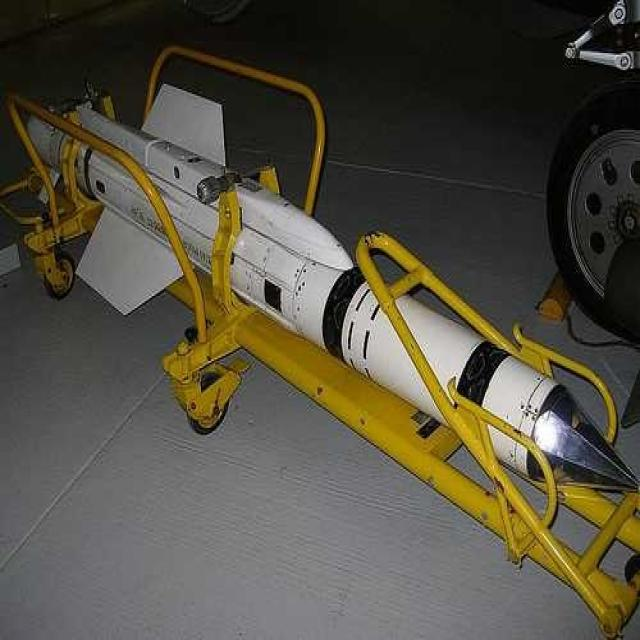missile: (24, 69, 640, 491)
